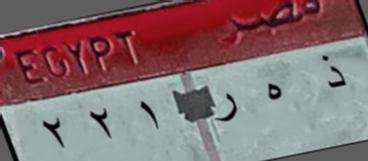1: (130, 99, 160, 136)
2: (86, 105, 115, 145), (38, 115, 68, 152)
haa: (261, 79, 288, 108)
raa: (211, 85, 240, 127)
zaal: (314, 50, 351, 94)
